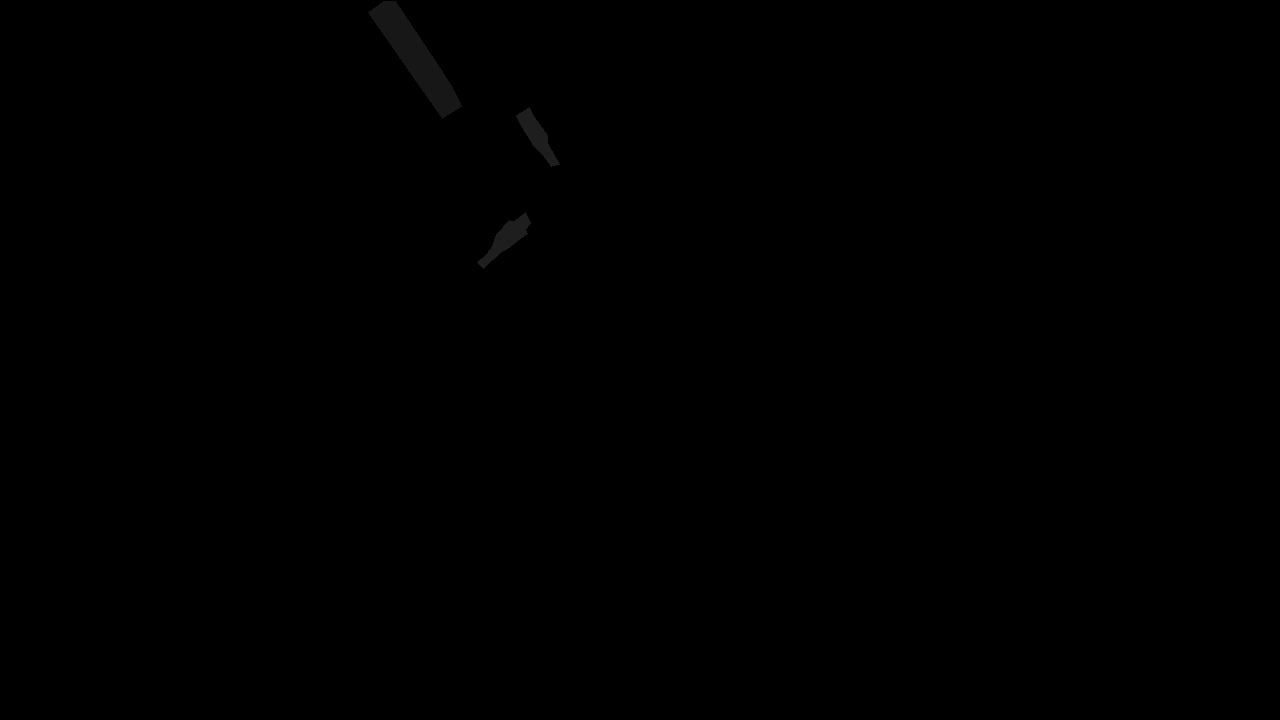Glue_pen: (368, 1, 461, 118)
Usb_HDMI: (477, 107, 559, 268)
